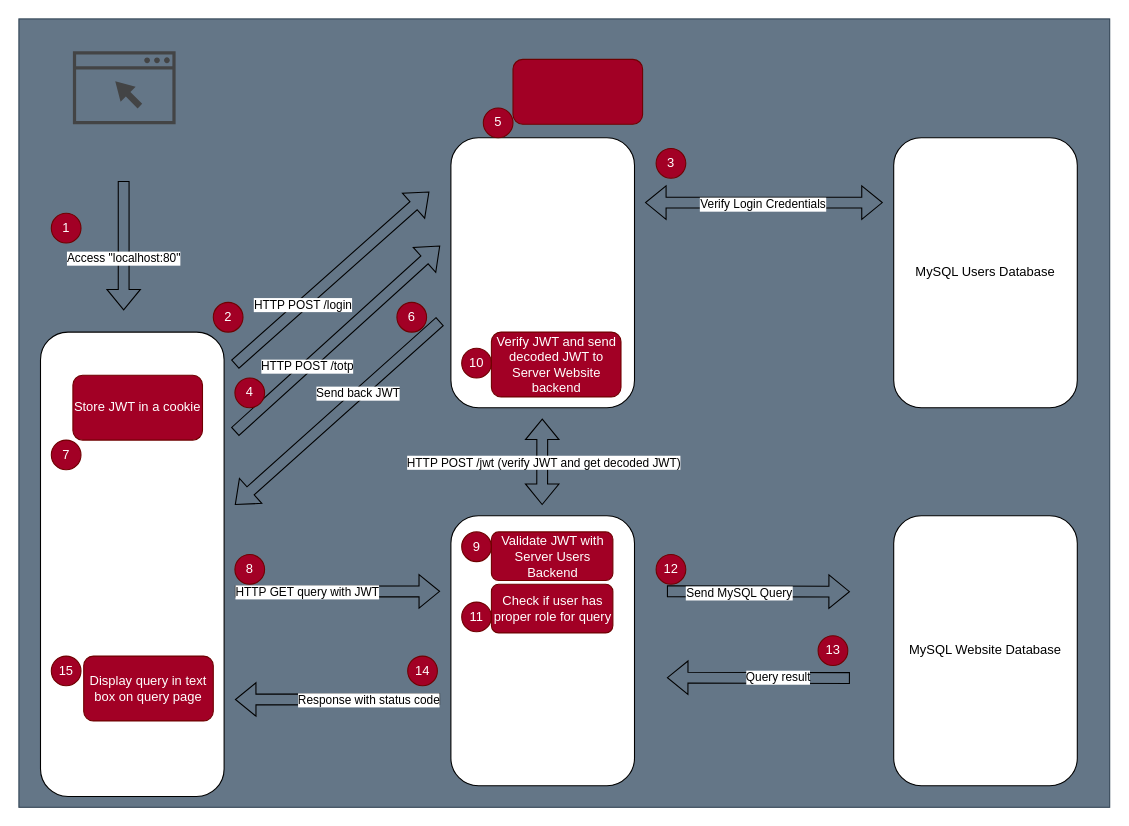
This 1129x826 diagram has some shape labels left out. The shapes that lost their labels are listed below. From the top down, each one's box as (x1, y1, x2, y2) in pixels, then its label:
(72, 51, 175, 124): User interacting through browser
(512, 58, 643, 124): Verify TOTP, sign JWT and send it back to frontend
(450, 137, 634, 408): Server Users Backend (Handles Authentication API Requests)
(39, 331, 224, 796): Frontend (index.html)
(450, 515, 634, 786): Server Website Backend (Handles API Requests)
